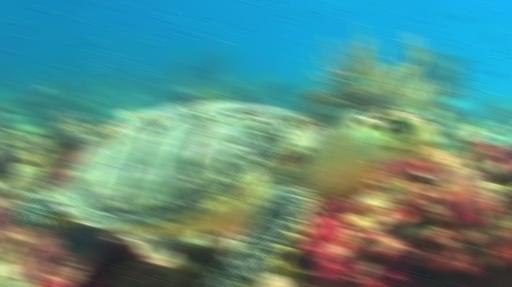Fish: (10, 101, 437, 286)
